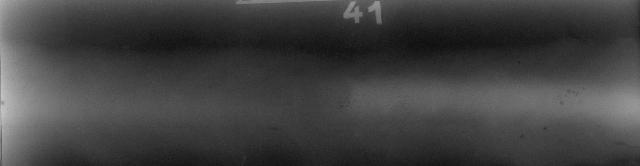FF: (604, 136, 640, 152)
FP: (8, 116, 332, 142)
IE: (550, 80, 588, 110), (333, 84, 367, 114), (390, 90, 420, 118)
PO: (517, 132, 527, 142), (542, 126, 550, 132)
